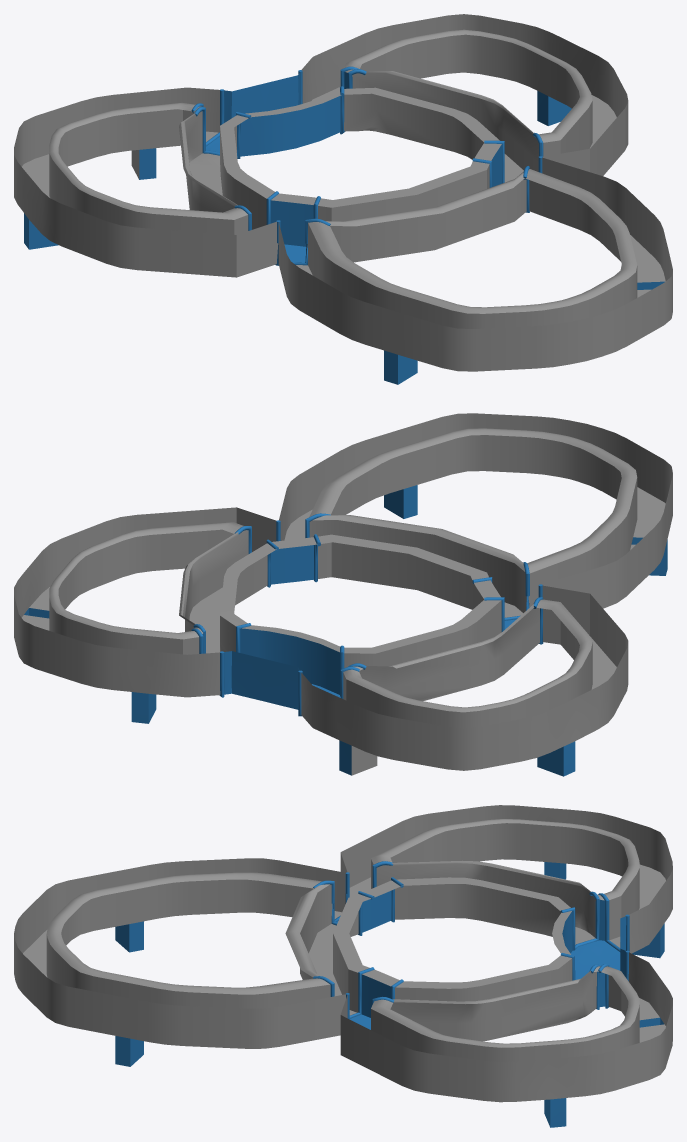
File: Level_03.FBX
3 renders of one model, top to bottom at view 1: azimuth 30°, elevation 25°; view 2: azimuth 150°, elevation 25°; view 3: azimuth 270°, elevation 25°, orthographic. The views are drawn at different scales.
Parts seen in each view (by area): view 1: Level3; view 2: Level3; view 3: Level3.
Part boxes in pixels (x1,y1,x2,y2): Level3: (14, 14, 672, 384); Level3: (14, 413, 672, 776); Level3: (14, 805, 672, 1127).
Size of the model in its own units: 14934 by 1979 by 16184.
